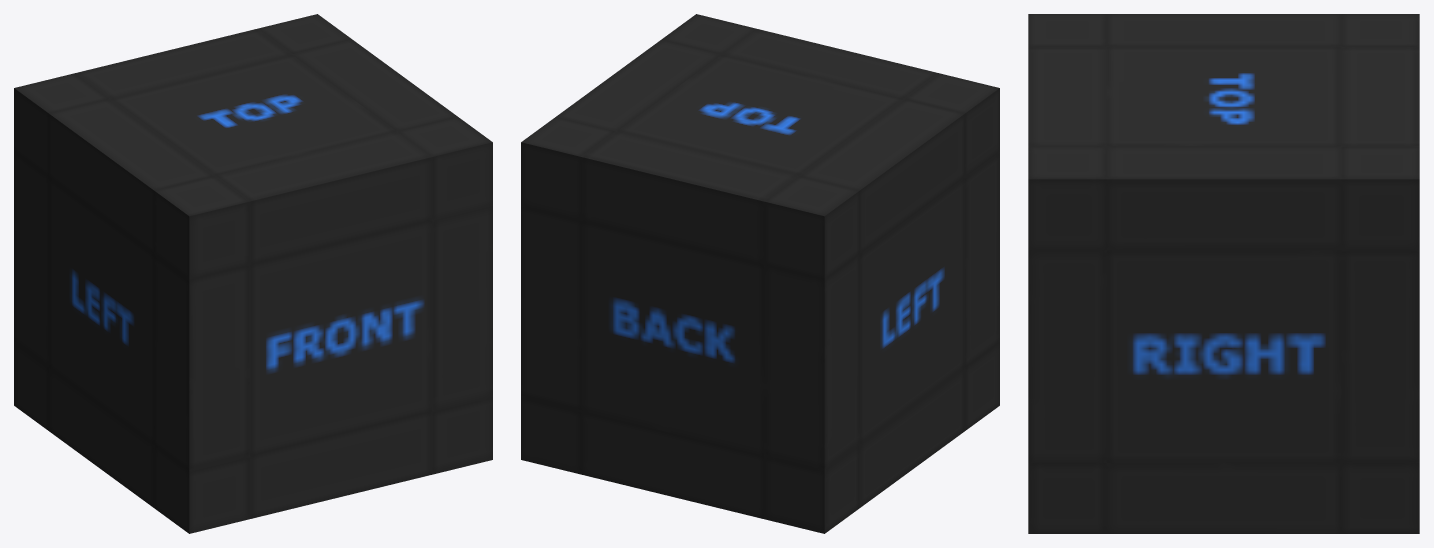
Rendered from ViewCube.fbx.
3 renders of one model, left to right at view 1: azimuth 30°, elevation 25°; view 2: azimuth 150°, elevation 25°; view 3: azimuth 270°, elevation 25°, orthographic. The views are drawn at different scales.
Parts seen in each view (by area): view 1: FrontMiddle, LeftMiddle, TopMiddle, FrontLeftMiddle, TopFrontMiddle, TopLeftMiddle, BottomFrontMiddle, FrontRightMiddle, TopFrontLeftCorner, BottomLeftMiddle, BackLeftMiddle, TopBackMiddle (+7 smaller); view 2: BackMiddle, LeftMiddle, TopMiddle, BackLeftMiddle, TopBackMiddle, TopLeftMiddle, BottomBackMiddle, BackRightMiddle, TopBackLeftCorner, BottomLeftMiddle, FrontLeftMiddle, TopFrontMiddle (+7 smaller); view 3: RightMiddle, TopRightMiddle, TopMiddle, FrontRightMiddle, BackRightMiddle, BottomRightMiddle, TopFrontRightCorner, TopBackRightCorner, TopFrontMiddle, TopBackMiddle, TopLeftMiddle, BottomBackRightCorner (+3 smaller).
Boxes of the visible parts, left/top/right/bottom form: FrontMiddle: left=250, top=220, right=432, bottom=455; LeftMiddle: left=49, top=177, right=154, bottom=444; TopMiddle: left=110, top=54, right=396, bottom=175; FrontLeftMiddle: left=154, top=254, right=249, bottom=470; TopFrontMiddle: left=215, top=131, right=432, bottom=264; TopLeftMiddle: left=49, top=99, right=214, bottom=253; BottomFrontMiddle: left=250, top=411, right=432, bottom=518; FrontRightMiddle: left=432, top=206, right=492, bottom=410; TopFrontLeftCorner: left=154, top=176, right=249, bottom=279; BottomLeftMiddle: left=49, top=368, right=154, bottom=507; BackLeftMiddle: left=14, top=152, right=48, bottom=367; TopBackMiddle: left=75, top=29, right=291, bottom=98; BackMiddle: left=581, top=220, right=763, bottom=455; LeftMiddle: left=859, top=177, right=964, bottom=444; TopMiddle: left=617, top=54, right=903, bottom=175; BackLeftMiddle: left=764, top=254, right=859, bottom=470; TopBackMiddle: left=581, top=131, right=798, bottom=264; TopLeftMiddle: left=799, top=99, right=964, bottom=253; BottomBackMiddle: left=581, top=411, right=763, bottom=518; BackRightMiddle: left=521, top=206, right=581, bottom=410; TopBackLeftCorner: left=764, top=176, right=859, bottom=279; BottomLeftMiddle: left=859, top=368, right=964, bottom=507; FrontLeftMiddle: left=965, top=152, right=999, bottom=367; TopFrontMiddle: left=722, top=29, right=938, bottom=98; RightMiddle: left=1106, top=250, right=1341, bottom=462; TopRightMiddle: left=1106, top=146, right=1341, bottom=250; TopMiddle: left=1106, top=47, right=1341, bottom=146; FrontRightMiddle: left=1028, top=250, right=1106, bottom=462; BackRightMiddle: left=1341, top=250, right=1419, bottom=462; BottomRightMiddle: left=1106, top=463, right=1341, bottom=533; TopFrontRightCorner: left=1028, top=146, right=1106, bottom=250; TopBackRightCorner: left=1341, top=146, right=1419, bottom=250; TopFrontMiddle: left=1028, top=47, right=1106, bottom=146; TopBackMiddle: left=1341, top=47, right=1419, bottom=146; TopLeftMiddle: left=1106, top=14, right=1341, bottom=46; BottomBackRightCorner: left=1341, top=463, right=1419, bottom=533.
Size of the model in its own units: 1 by 1 by 1.
1 material, 1 textured.
